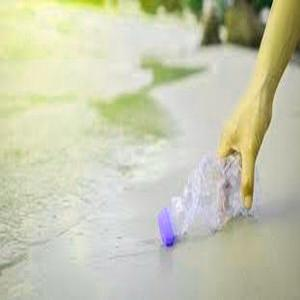Plastic: (150, 155, 243, 248)
